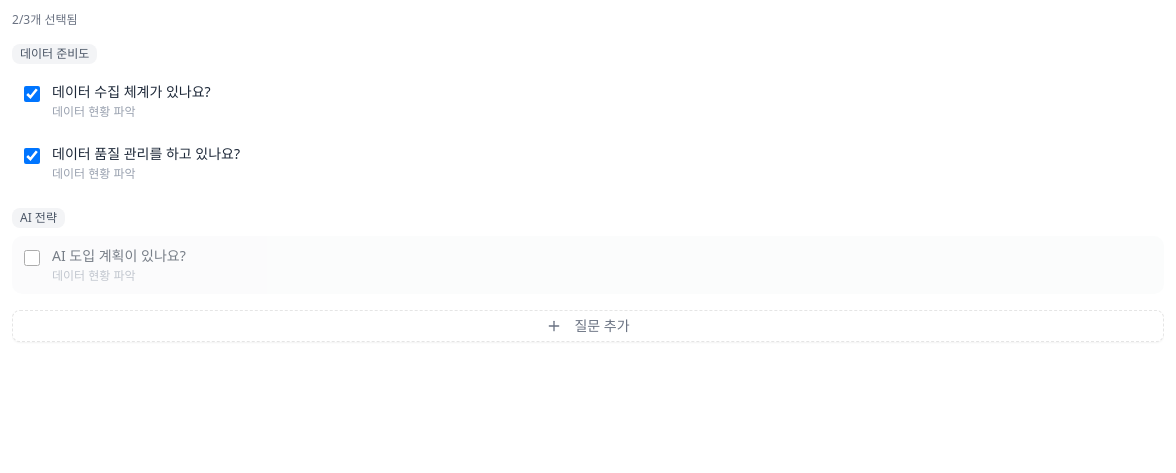
Test: GuideQuestions › 질문 추가 폼 › 질문 입력 후 추가 버튼이 활성화된다
Click the button "질문 추가": (588, 326) [12, 310, 1164, 342]
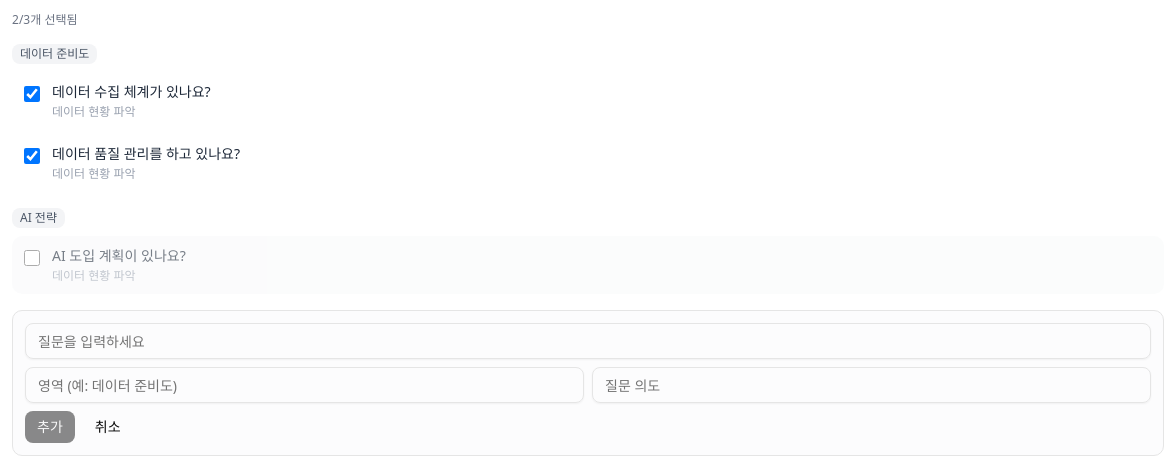
In the field with placeholder "질문을 입력하세요": (588, 341) [25, 323, 1151, 359], type "새 질문 내용"
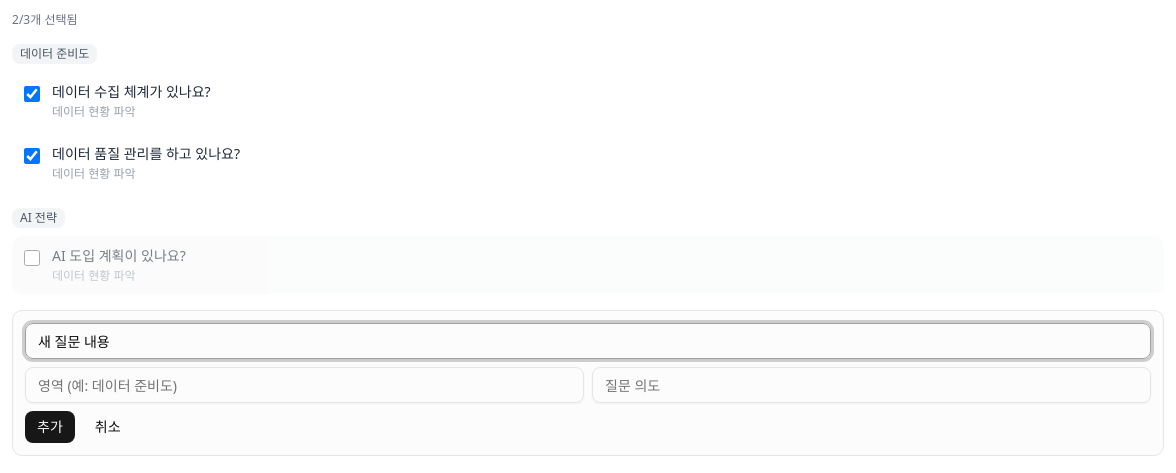
Expected: the button "추가" is enabled, [25, 411, 75, 443]
